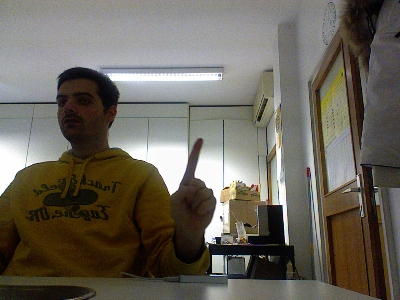食指: (166, 134, 218, 233)
